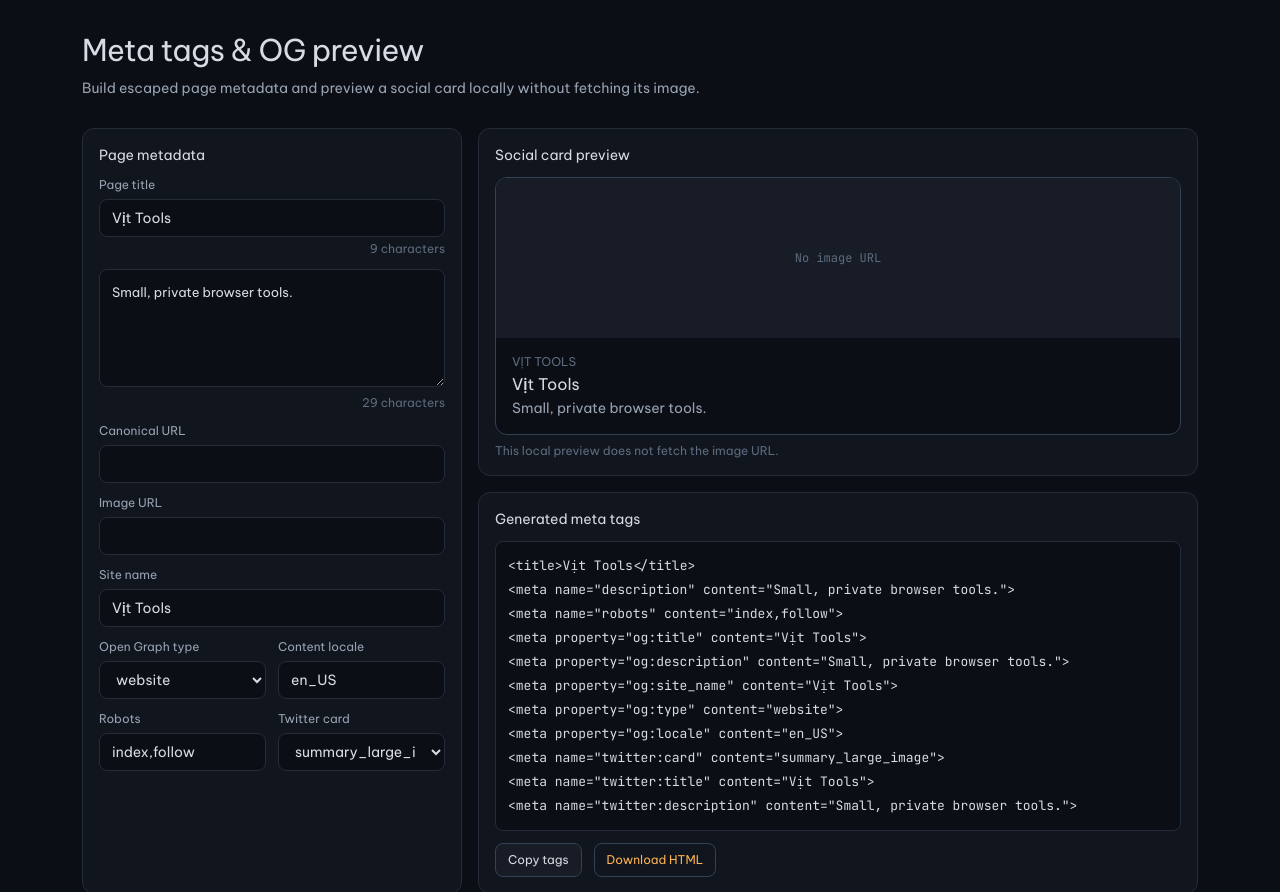
Test case: Meta Tags tool › generates escaped tags and a non-fetching social preview
Replace the text in the field labelled "Page title" with "Vịt & \"Tools\"" at (272, 218), box left=99, top=199, right=445, bottom=237
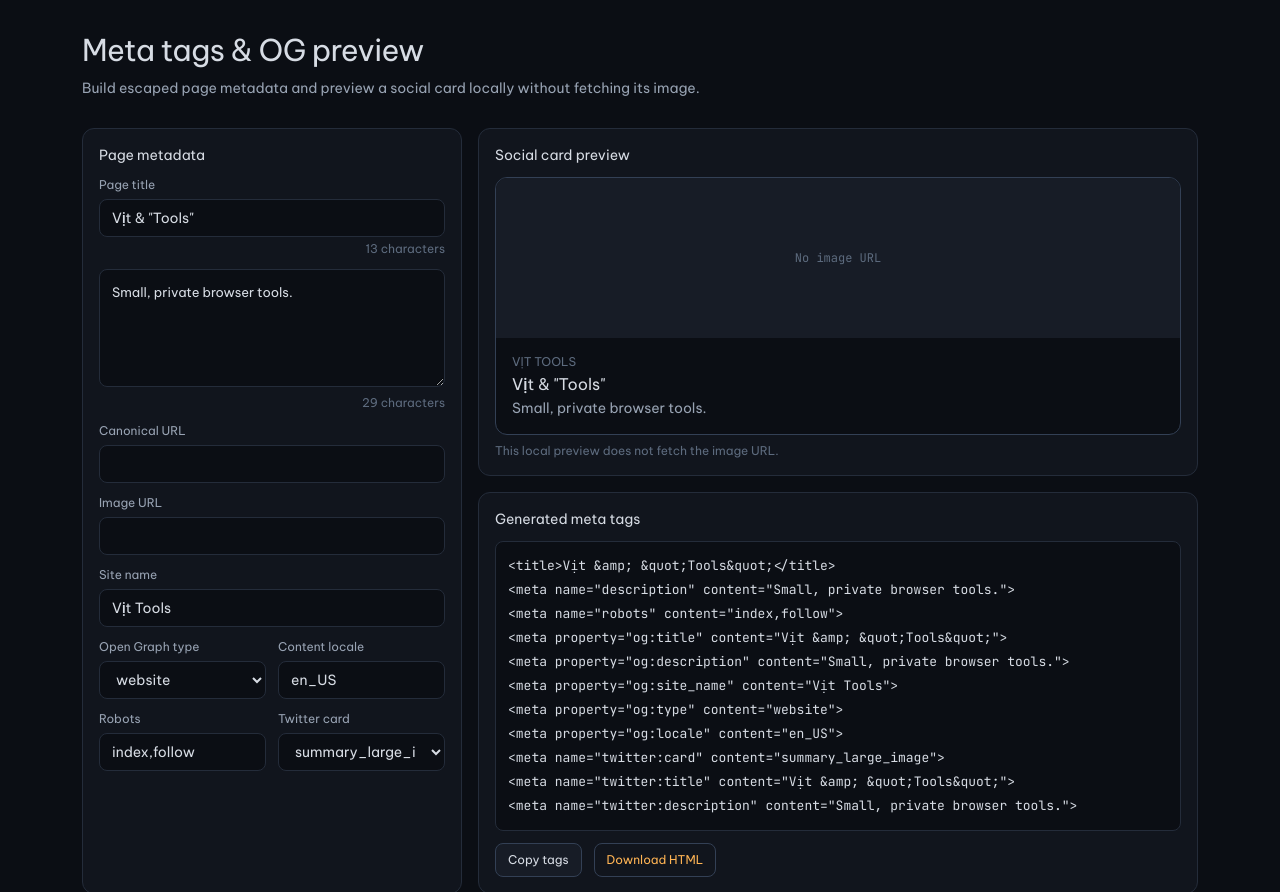
Replace the text in the text box named "Description" with "Private <browser> tools" at (272, 328), box left=99, top=269, right=445, bottom=387
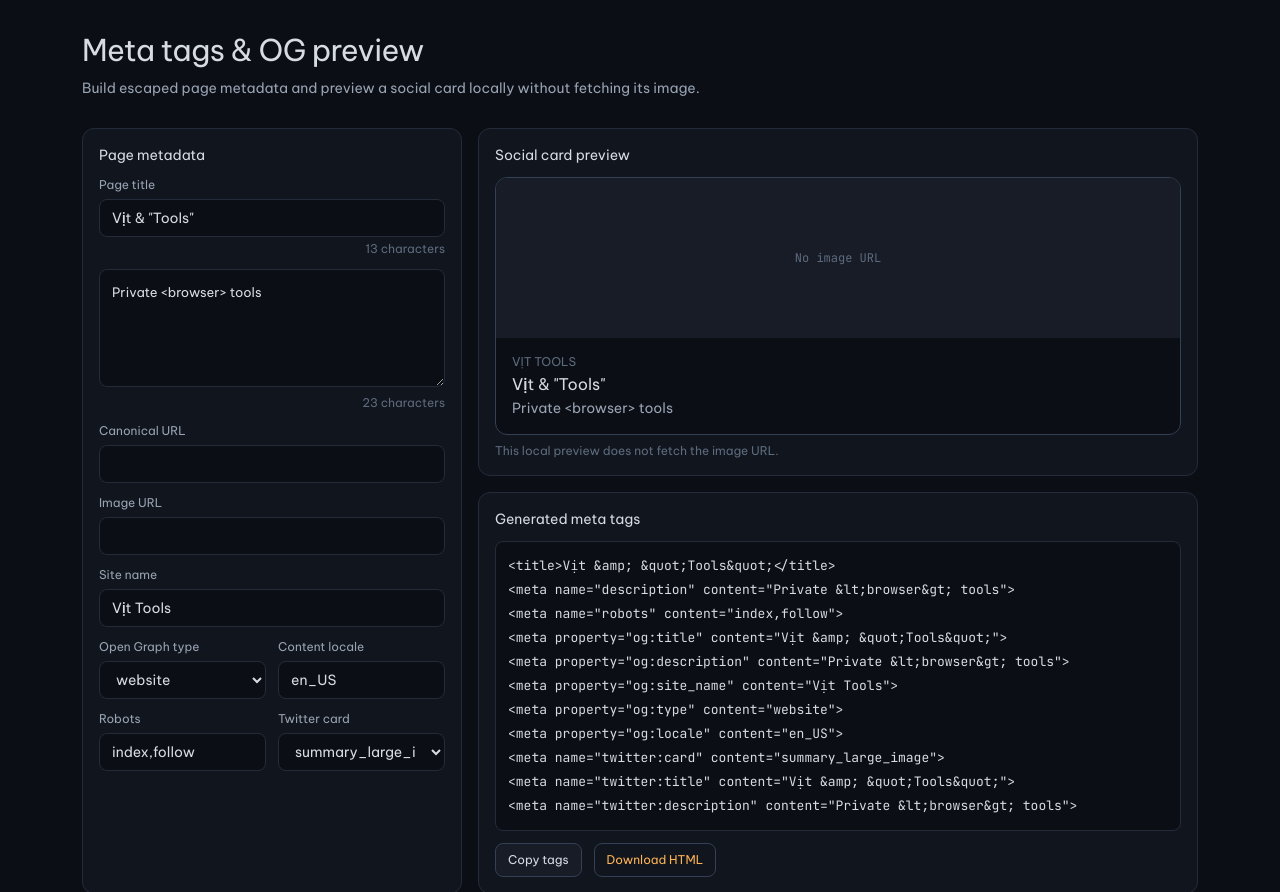
Type "https://example.com/tools" into the field labelled "Canonical URL" at (272, 464), box left=99, top=445, right=445, bottom=483
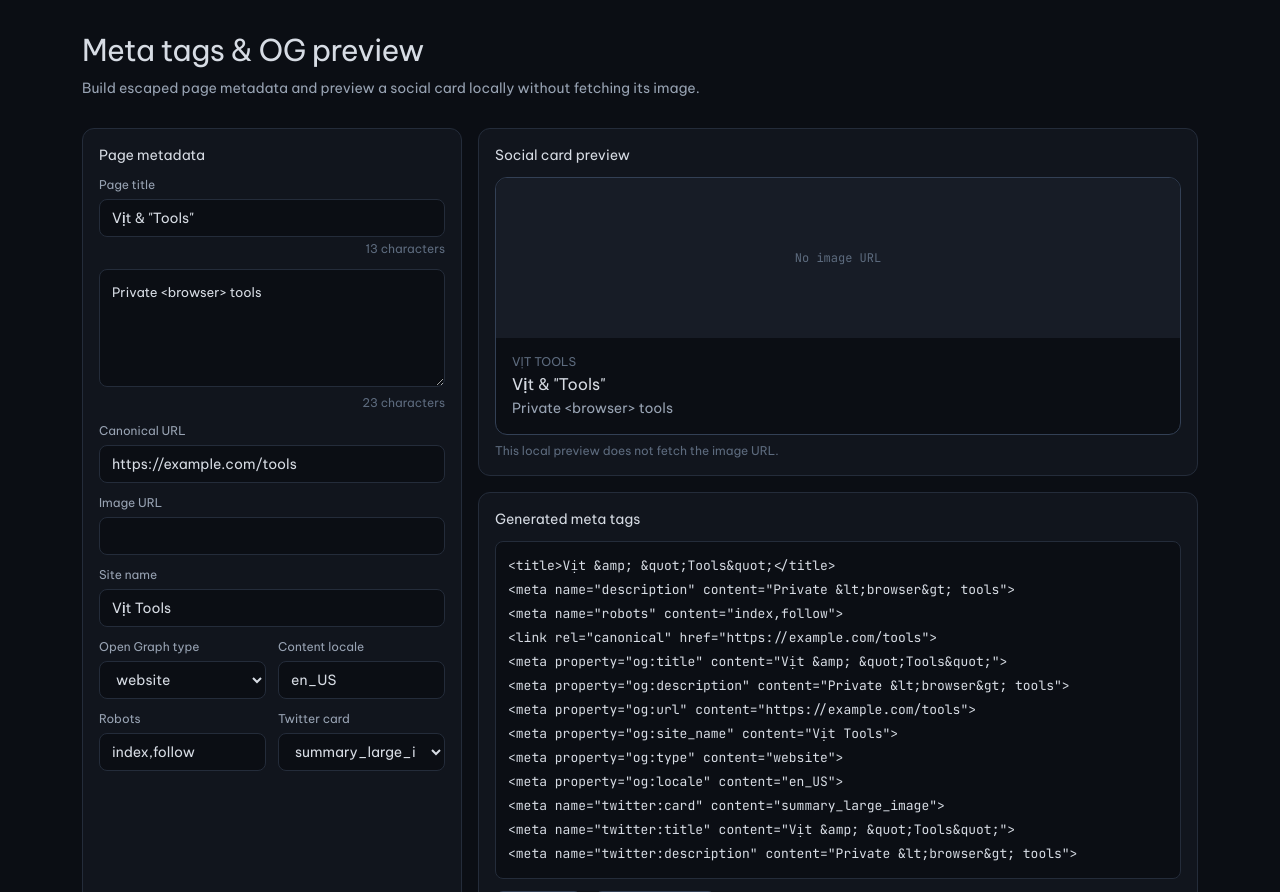
Type "https://example.com/og.png" into the field labelled "Image URL" at (272, 536), box left=99, top=517, right=445, bottom=555
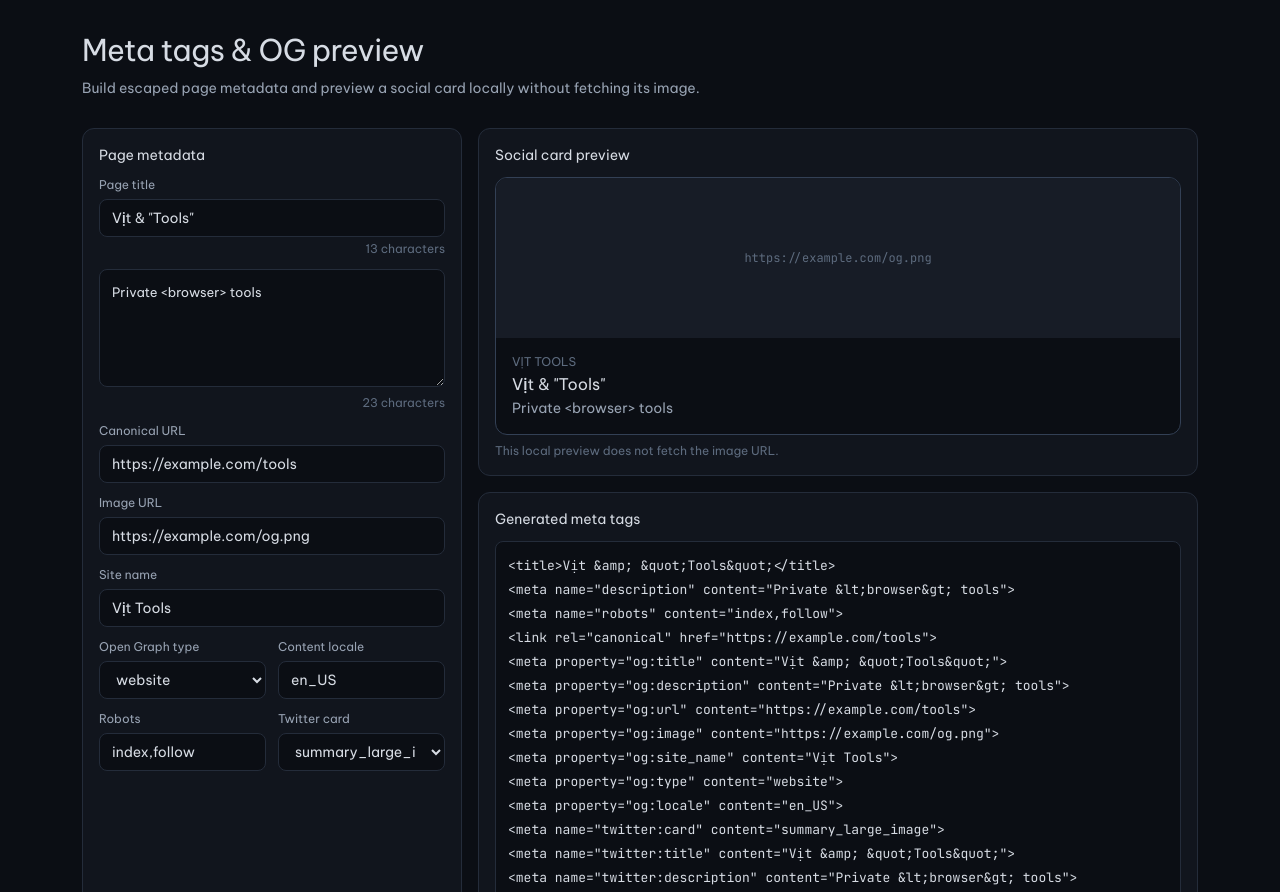
Expected: the text "This local preview does not fetch the image URL." is shown, left=495, top=443, right=779, bottom=458
Now the element named "Social card preview" shows "Vịt & \"Tools\"", box left=512, top=374, right=605, bottom=394
Now the element named "Social card preview" shows "https://example.com/og.png", box left=744, top=250, right=932, bottom=266
